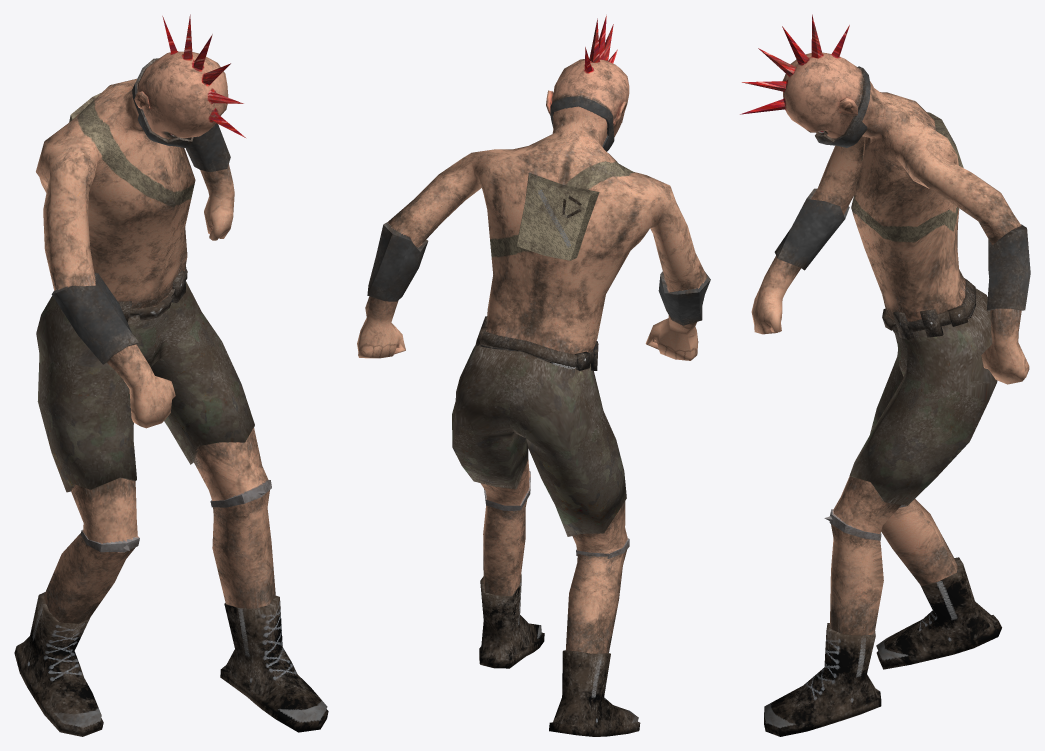
The model's file is Anim_cogerobjeto_npc2.0033.obj.
3 views of the same model, side by side, from view 1: azimuth 30°, elevation 25°; view 2: azimuth 150°, elevation 25°; view 3: azimuth 270°, elevation 25° (orthographic). The views are drawn at different scales.
Parts seen in each view (by area): view 1: polySurface1; view 2: polySurface1; view 3: polySurface1.
Part boxes in pixels (left/top/right/bottom): polySurface1: left=14, top=14, right=328, bottom=736; polySurface1: left=357, top=15, right=710, bottom=736; polySurface1: left=740, top=14, right=1030, bottom=736.
Size of the model in its own units: 3.78 by 9.41 by 3.66.
